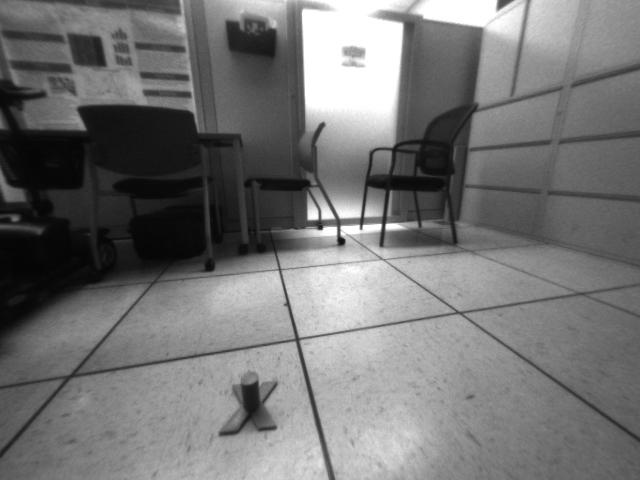X: (215, 370, 278, 437)
